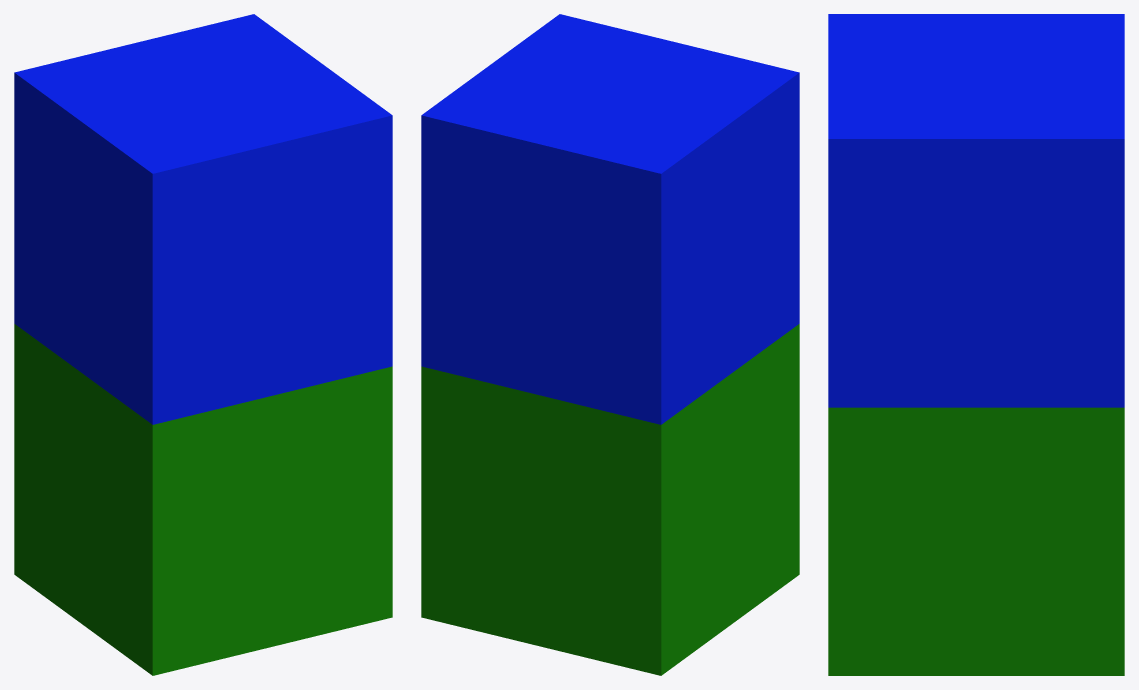
File: (3) Blue Flowers (Stage 2).obj
3 views of the same model, side by side, from view 1: azimuth 30°, elevation 25°; view 2: azimuth 150°, elevation 25°; view 3: azimuth 270°, elevation 25° (orthographic). The views are drawn at different scales.
Size of the model in its own units: 0.1 by 0.2 by 0.1.
1 material, 1 textured.
